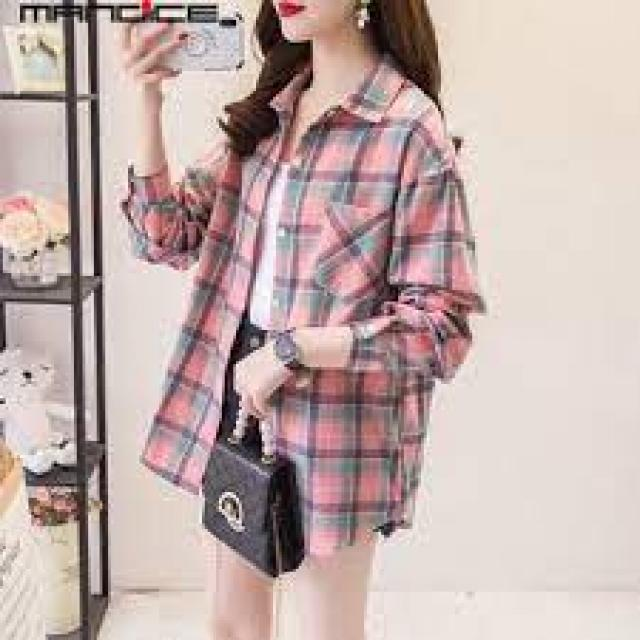plaid: (122, 79, 482, 538)
